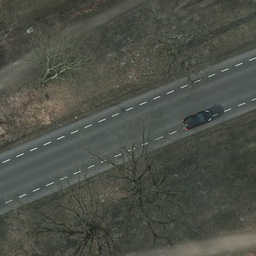car: (182, 109, 212, 131)
